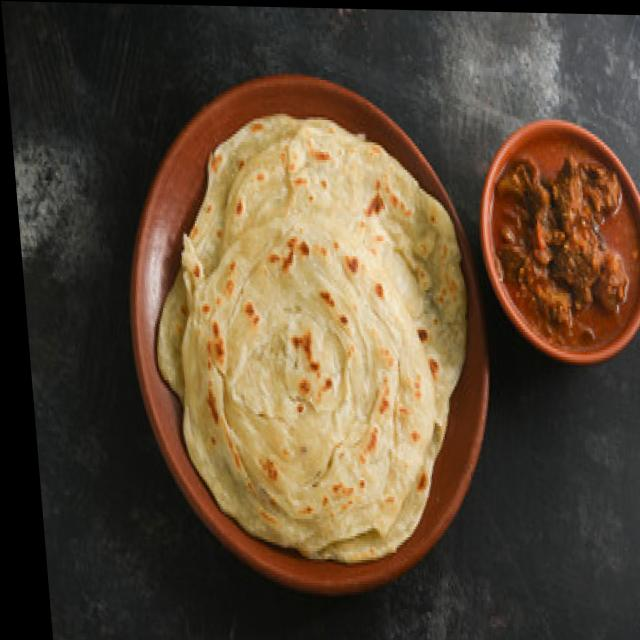CURRY: (493, 133, 640, 350)
PAROTTA: (154, 110, 470, 560)
